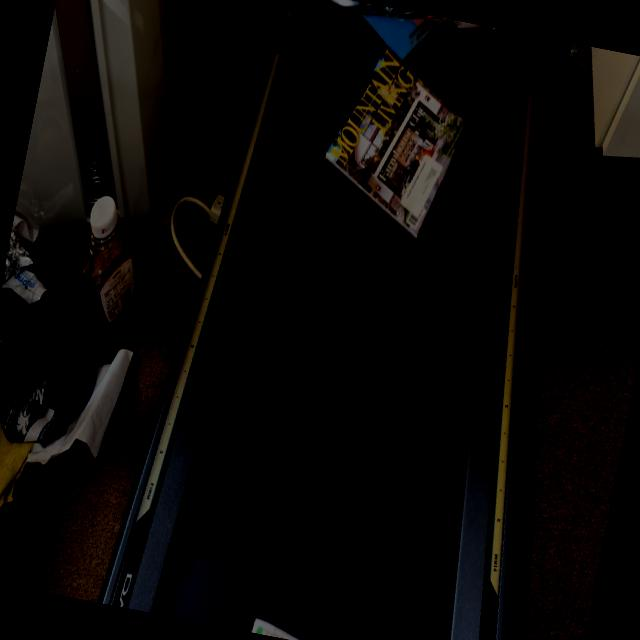Recycle: (312, 41, 486, 248)
